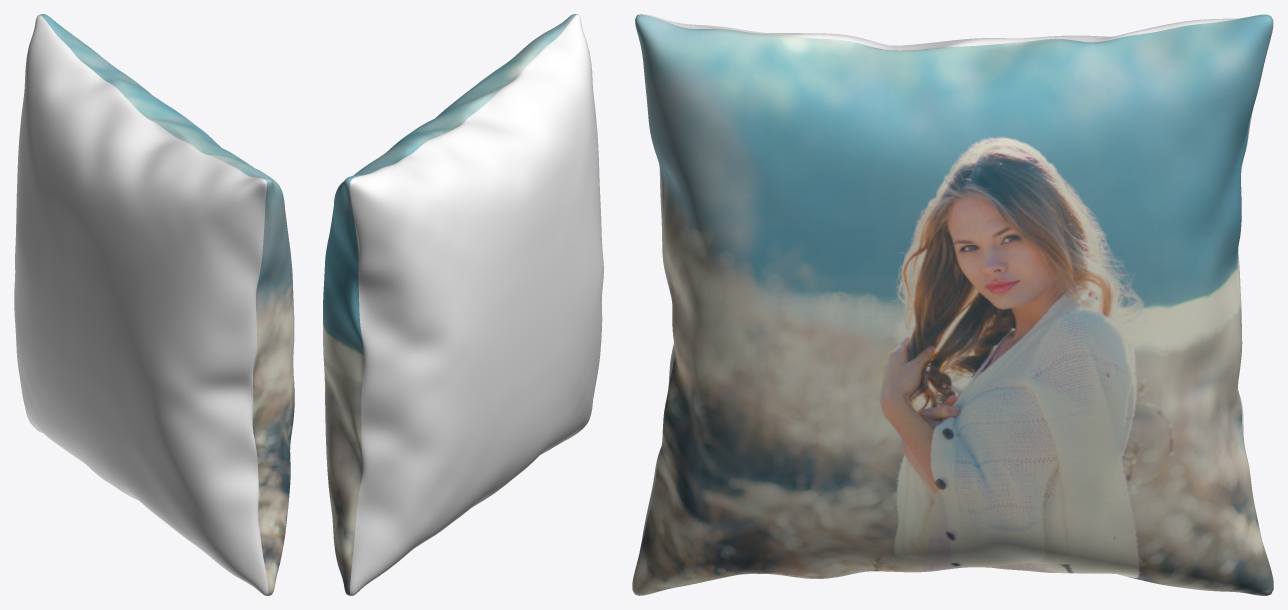
Rendered from cushion.gltf.
3 views of the same model, side by side, from view 1: azimuth 30°, elevation 25°; view 2: azimuth 150°, elevation 25°; view 3: azimuth 270°, elevation 25° (orthographic). The views are drawn at different scales.
Parts seen in each view (by area): view 1: Cushion Hair Top-View; view 2: Cushion Hair Top-View; view 3: Cushion Hair Top-View.
Boxes of the visible parts, box(x1,y1,x2,y2) form: Cushion Hair Top-View: box(14, 14, 294, 595); Cushion Hair Top-View: box(323, 14, 603, 595); Cushion Hair Top-View: box(632, 14, 1273, 595).
Size of the model in its own units: 0.3535 by 0.949 by 0.9517.
Materials: 1 (1 with a texture image).
